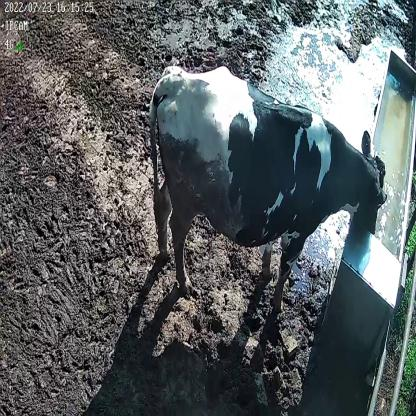cow: (147, 64, 390, 318)
